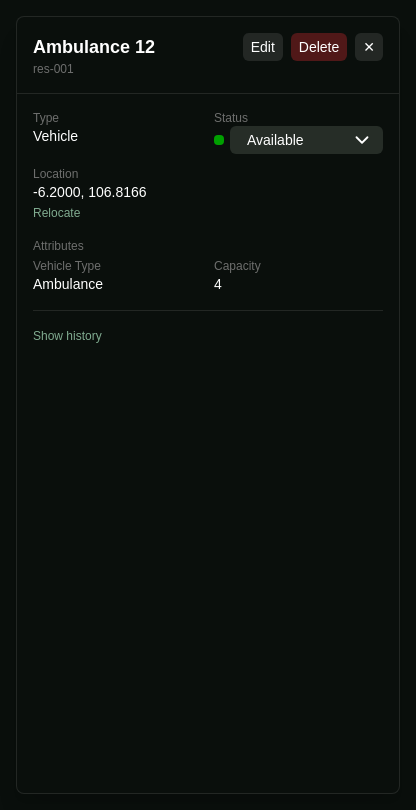
Test: ResourceDetail › blocks the relocate save and shows a field error for an out-of-range latitude
The image size is (416, 810).
Click the button "Relocate".
click(57, 213)  # box [33,205,80,221]
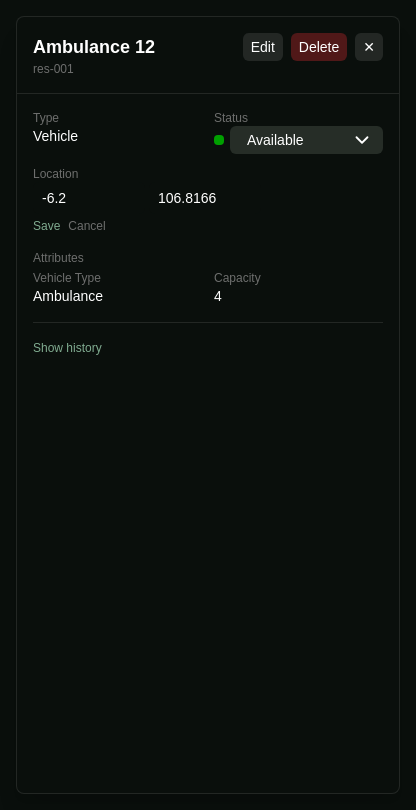
Replace the text in the 1st field named "Latitude" with "91" at (89, 198), box [33,182,145,214]
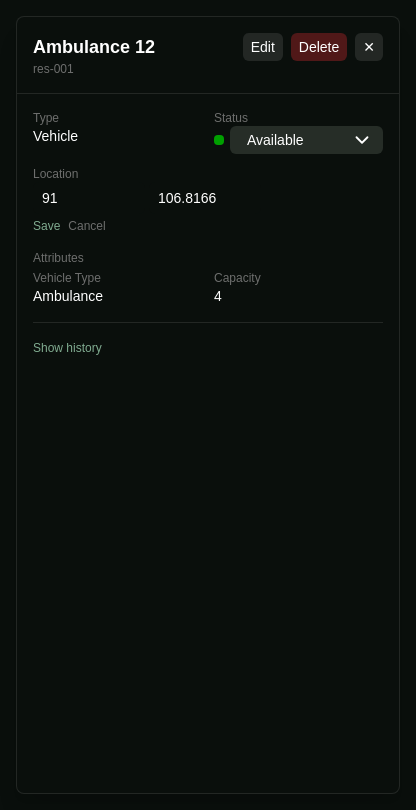
Click the button "Save".
click(47, 226)  # box [33,218,60,234]
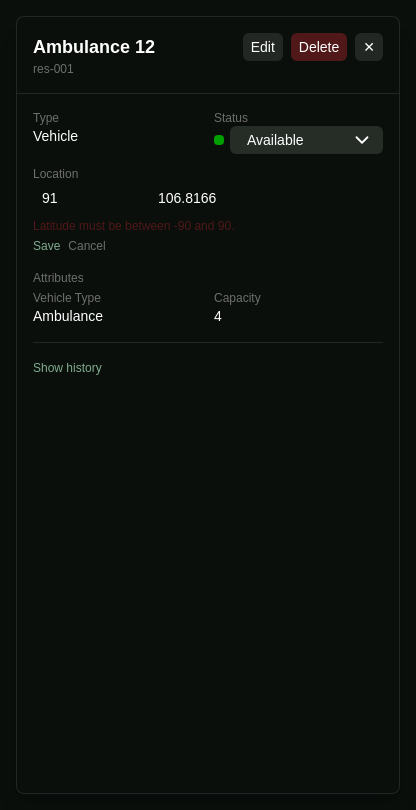
Result: the text "Latitude must be between -90 and 90." is shown at [33,219,234,233]
